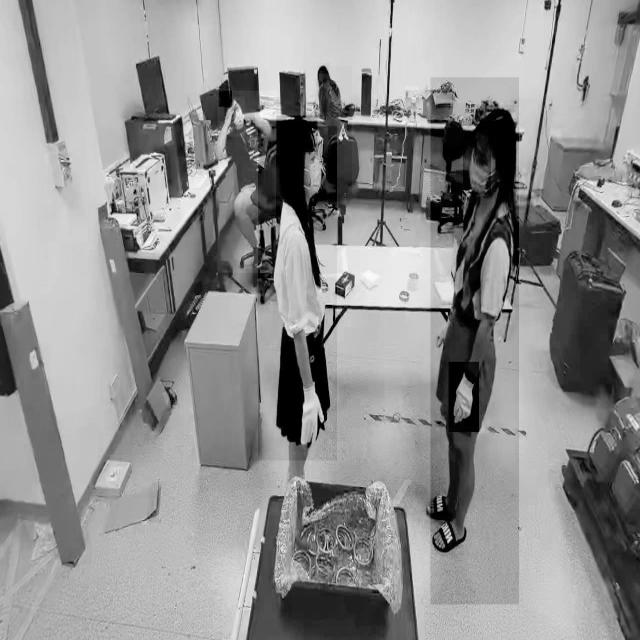face_mask: (463, 138, 491, 195), (304, 140, 322, 207), (229, 97, 245, 137)
hand_glove: (292, 370, 326, 452), (448, 362, 479, 433)
hand_noglove: (224, 104, 235, 127), (243, 114, 255, 125)
head_nohelmet: (276, 115, 318, 153), (476, 105, 514, 139), (218, 90, 232, 108), (316, 63, 329, 75)
person: (430, 78, 519, 606), (257, 126, 337, 462), (217, 90, 276, 274), (314, 66, 352, 202)
